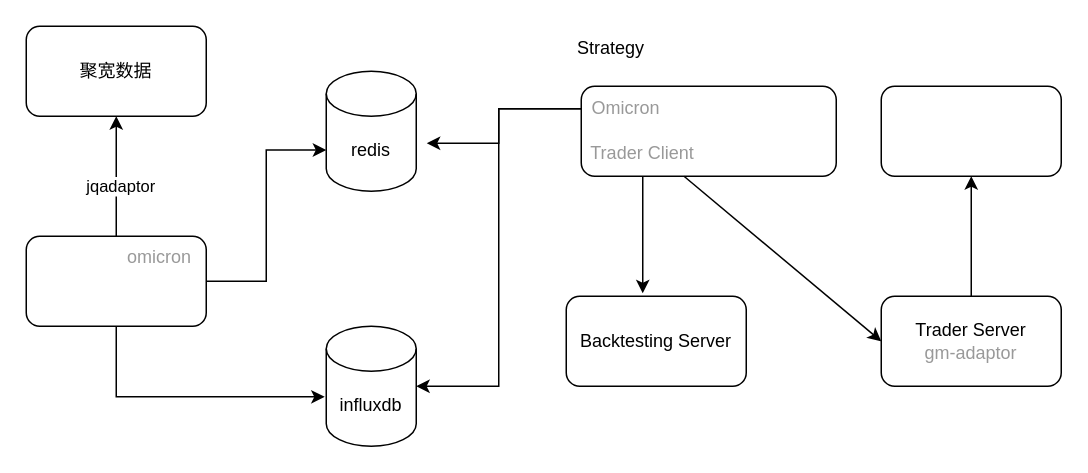
This 1088x473 diagram has some shape labels left out. The box of each missing label's shape, as (x1, y1, x2, y2) in pixels:
Omega: (25, 235, 206, 326)
券商柜台: (880, 85, 1061, 176)
